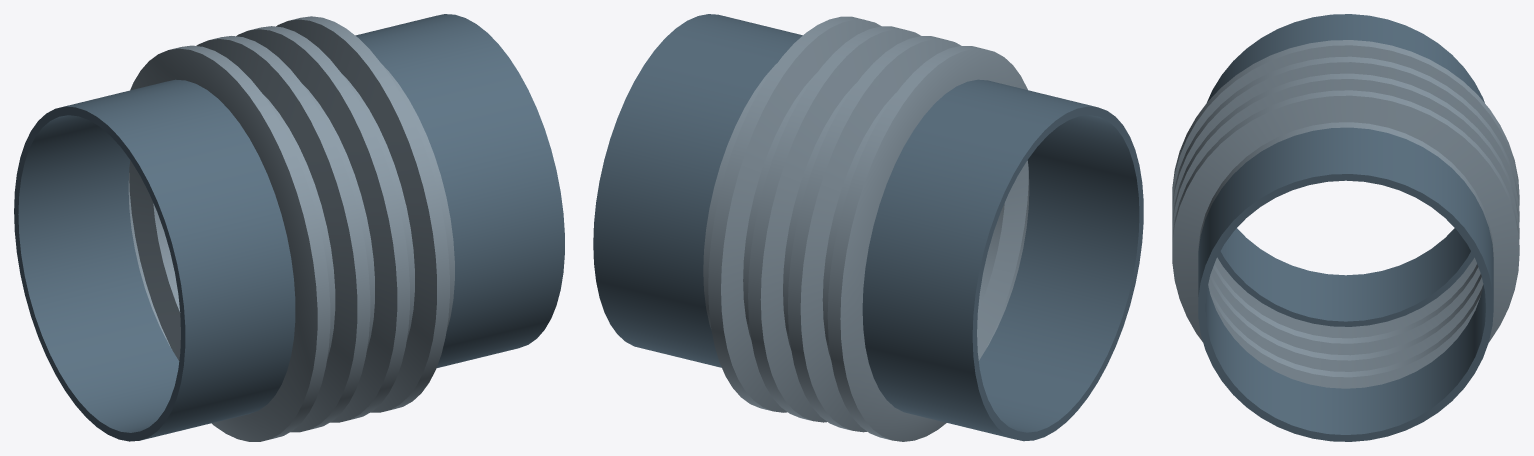
File: silf-dn200-L280-D219.glb
3 views of the same model, side by side, from view 1: azimuth 30°, elevation 25°; view 2: azimuth 150°, elevation 25°; view 3: azimuth 270°, elevation 25° (orthographic). The views are drawn at different scales.
Visible parts, largest first — view 1: patrubok_1, prokladka_silfon_1, patrubok_2; view 2: patrubok_1, prokladka_silfon_1, patrubok_2; view 3: prokladka_silfon_1, patrubok_2, patrubok_1.
Boxes of the visible parts, left/top/right/bottom form: patrubok_1: left=14, top=79, right=295, bottom=441; prokladka_silfon_1: left=128, top=16, right=454, bottom=441; patrubok_2: left=355, top=14, right=564, bottom=367; patrubok_1: left=862, top=79, right=1143, bottom=441; prokladka_silfon_1: left=703, top=16, right=1029, bottom=441; patrubok_2: left=593, top=14, right=802, bottom=367; prokladka_silfon_1: left=1172, top=40, right=1519, bottom=388; patrubok_2: left=1198, top=127, right=1493, bottom=441; patrubok_1: left=1207, top=14, right=1484, bottom=326.
Size of the model in its own units: 280 by 257 by 257.
